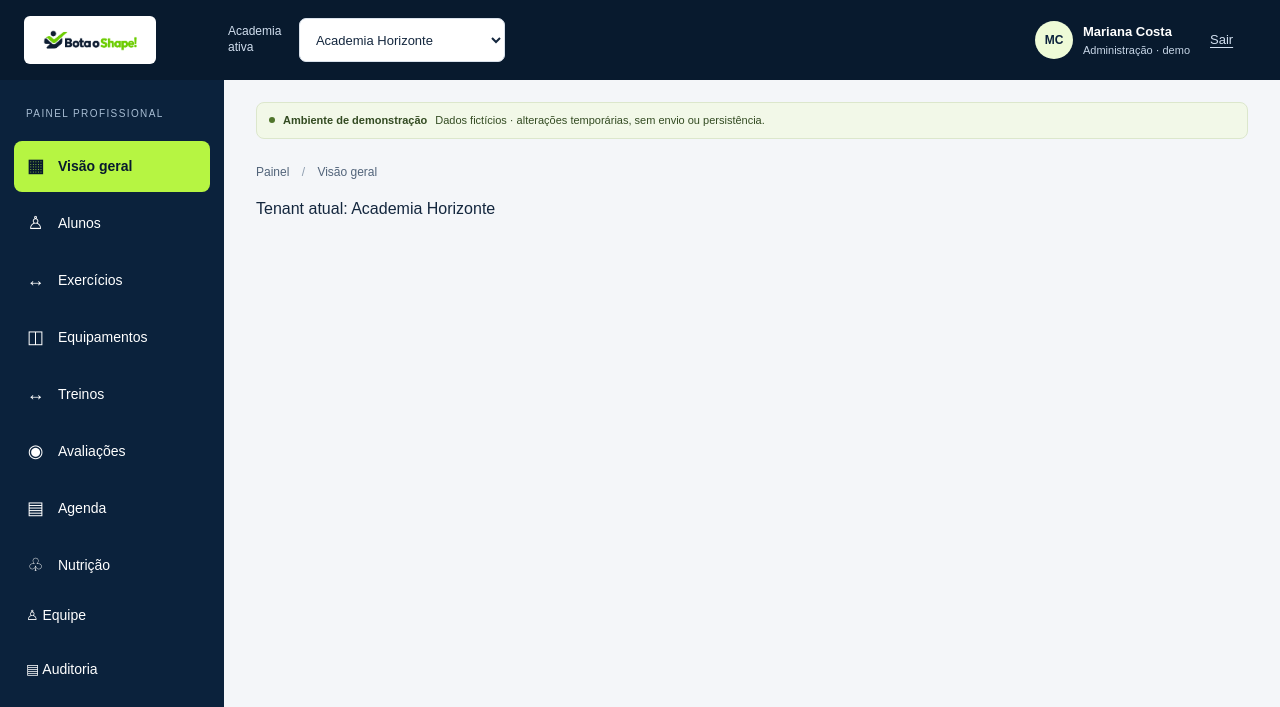
Test case: painel de demonstração › alterna somente entre academias vinculadas
Expected: the text "Tenant atual: Academia Horizonte" is shown, [256,200,495,216]
Select "Academia Movimento" in the dropdown labelled "Academia ativa": point(402, 40) [299,18,505,62]
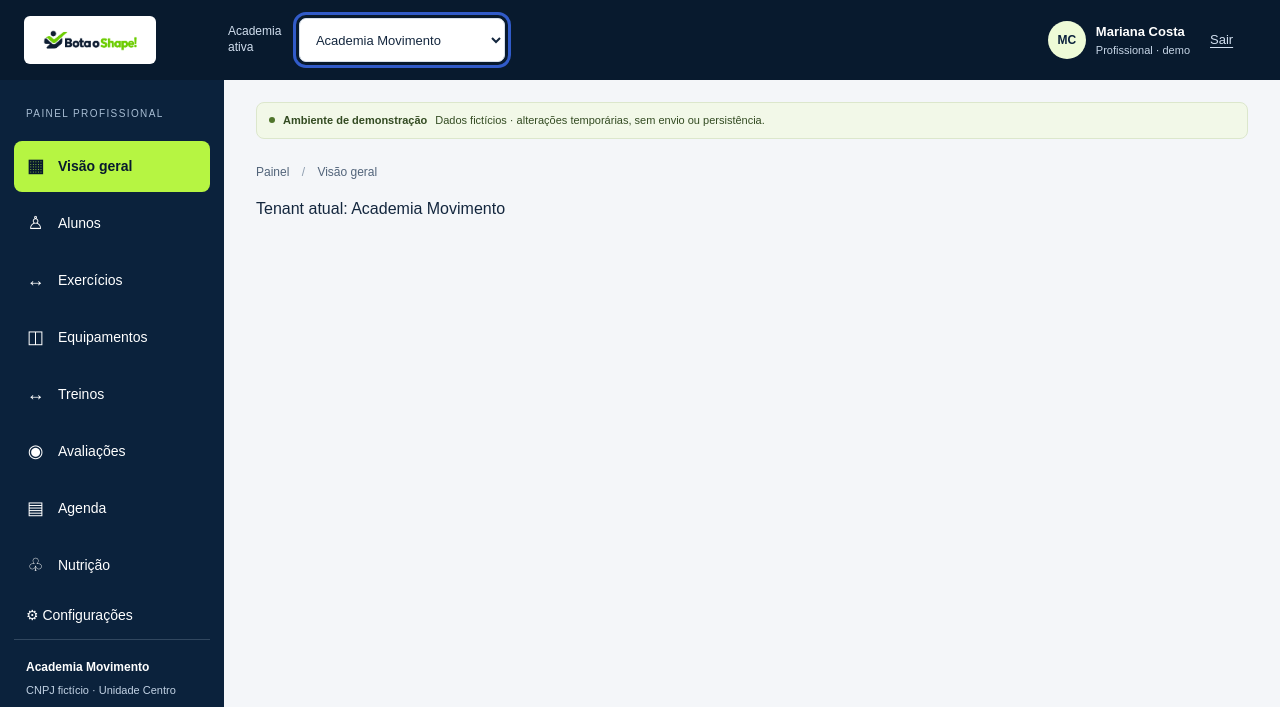
Now the text "Tenant atual: Academia Movimento" is shown, box [256,200,505,216]
